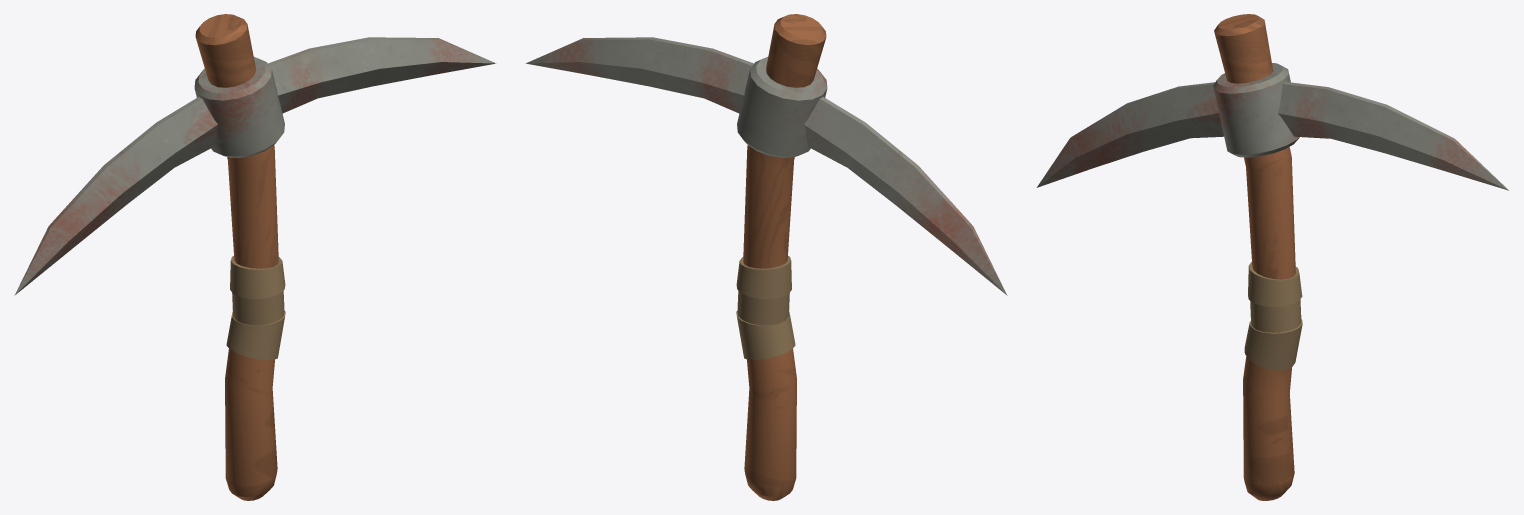
Rendered from Pickaxe_Decor.fbx.
3 views of the same model, side by side, from view 1: azimuth 30°, elevation 25°; view 2: azimuth 150°, elevation 25°; view 3: azimuth 330°, elevation 25° (orthographic).
Visible parts, largest first — view 1: Cylinder.012; view 2: Cylinder.012; view 3: Cylinder.012.
Part boxes in pixels (left/top/right/bottom): Cylinder.012: left=14, top=14, right=496, bottom=500; Cylinder.012: left=525, top=14, right=1007, bottom=500; Cylinder.012: left=1036, top=14, right=1508, bottom=500.
Bounding box in the file's own units: 246 × 236 × 35.23.
1 material, 1 textured.
